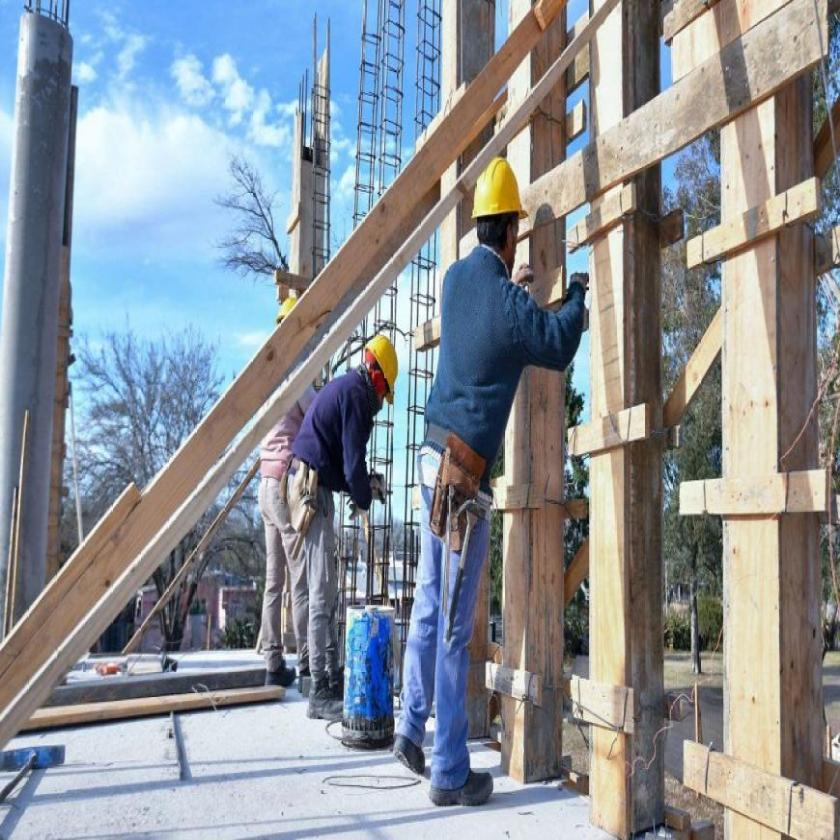Con_casco: (470, 158, 526, 294), (360, 328, 402, 423)
